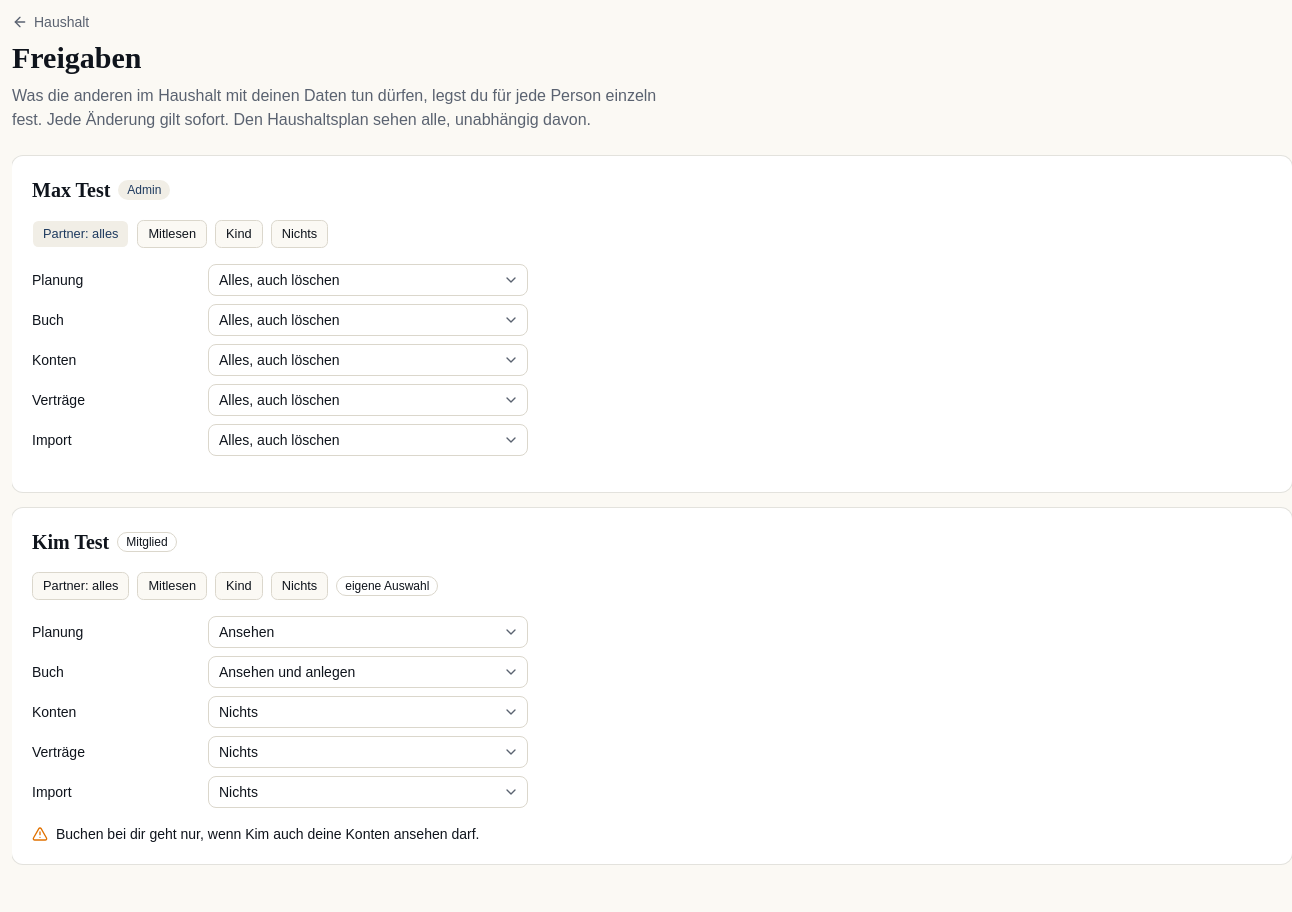
Scenario: grants page › a refused save stays visible with a retry and keeps the old level
The image size is (1292, 912).
Step 1. Click the button "Nichts" below "Max Test" → click(300, 234), box [271, 220, 328, 248]
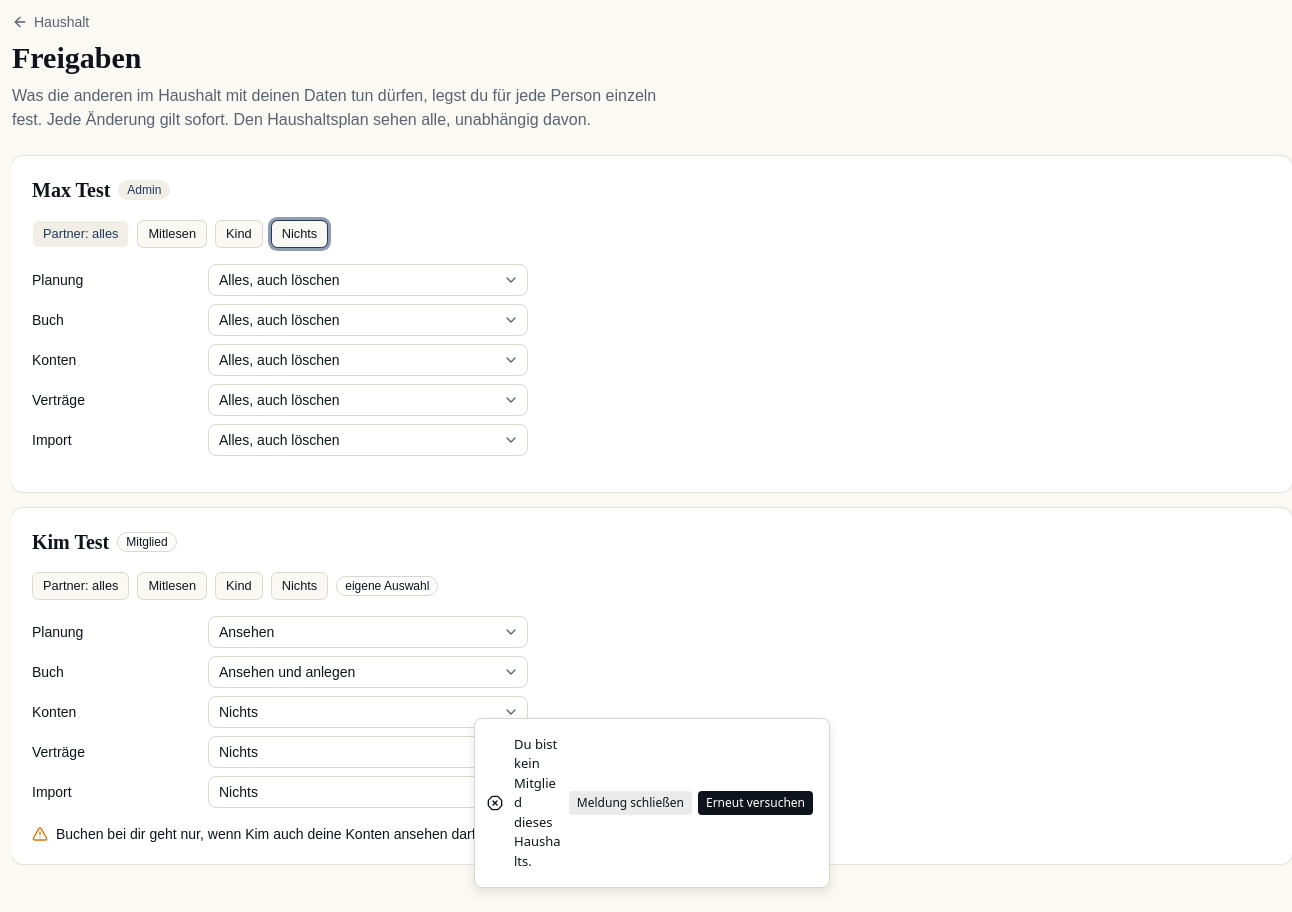
Check: the text "Du bist kein Mitglied dieses Haushalts." is shown, box [514, 734, 563, 871]
Check: the button "Erneut versuchen" is shown, box [698, 791, 813, 815]
